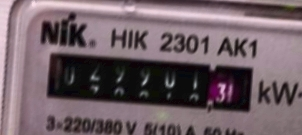0: (160, 63, 177, 89), (59, 62, 75, 85)
1: (187, 65, 200, 90)
2: (85, 58, 102, 82)
3: (211, 79, 227, 103)
9: (136, 63, 149, 87), (111, 60, 125, 82)
screen: (36, 43, 261, 122)
